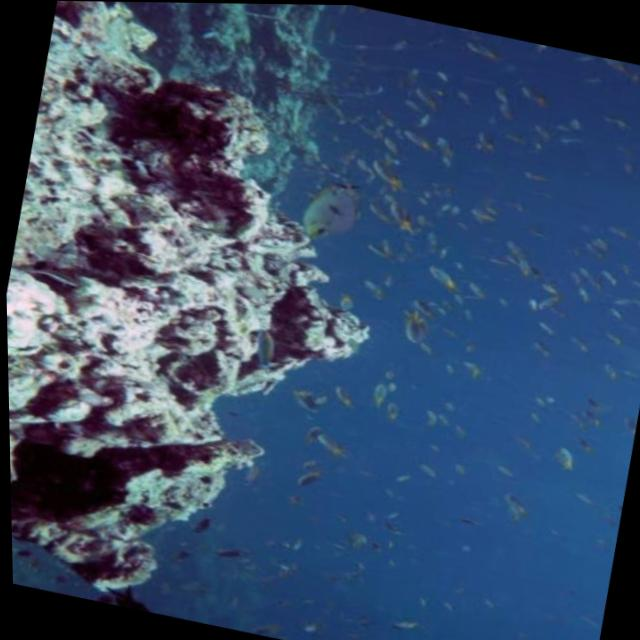Dead Coral: (1, 34, 425, 634)
